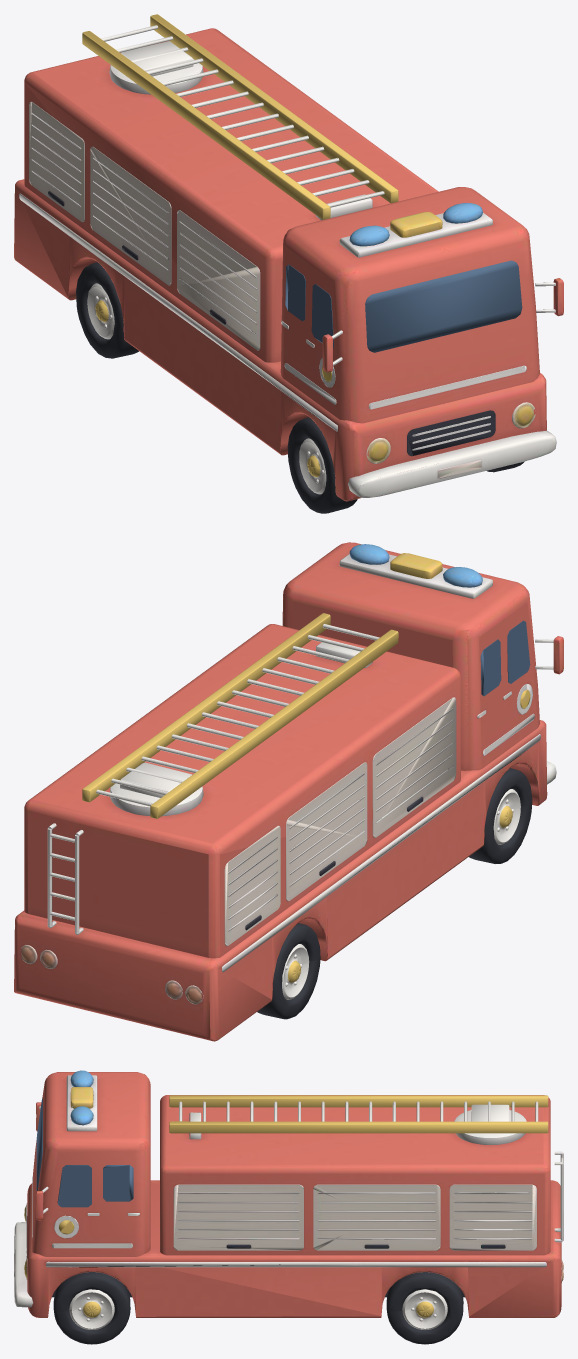
Rendered from camion_bomberos.glb.
3 views of the same model, one above another, from view 1: azimuth 30°, elevation 25°; view 2: azimuth 150°, elevation 25°; view 3: azimuth 270°, elevation 25° (orthographic). The views are drawn at different scales.
Visible parts, largest first — view 1: fire-truck_body; view 2: fire-truck_body; view 3: fire-truck_body.
Part boxes in pixels (box(x1,y1,x2,y2)): fire-truck_body: box(14, 14, 563, 513); fire-truck_body: box(14, 542, 563, 1041); fire-truck_body: box(14, 1070, 563, 1344).
Size of the model in its own units: 2.8 by 3.1 by 7.13.
16 materials, 1 textured.
